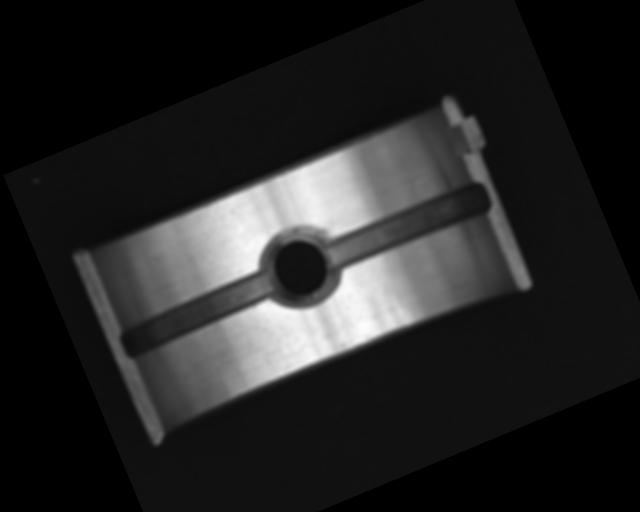gap: (322, 175, 495, 278), (115, 268, 279, 360)
hole: (247, 213, 352, 322)
